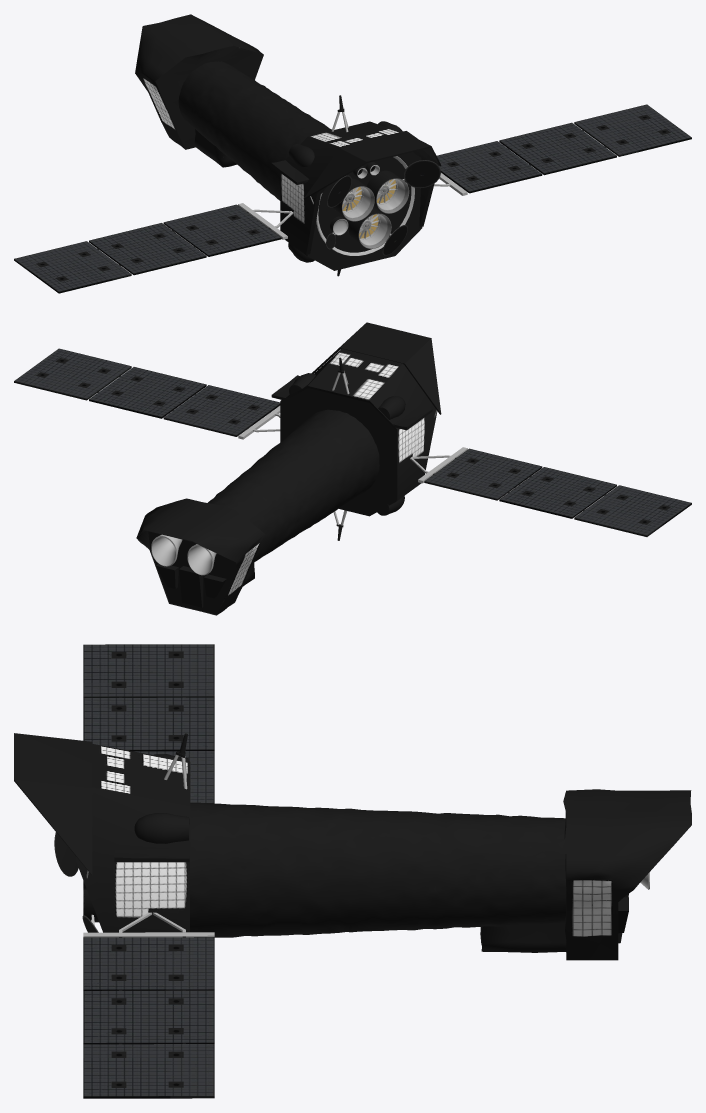
Rendered from xmmnewton-v1.glb.
The picture shows the model from 3 angles, top to bottom: view 1: azimuth 30°, elevation 25°; view 2: azimuth 150°, elevation 25°; view 3: azimuth 270°, elevation 25°; orthographic projection. The views are drawn at different scales.
Visible parts, largest first — view 1: XMM_Newton; view 2: XMM_Newton; view 3: XMM_Newton.
Part boxes in pixels (x1=…): XMM_Newton: x1=14, y1=14, x2=691, y2=293; XMM_Newton: x1=14, y1=322, x2=691, y2=615; XMM_Newton: x1=14, y1=644, x2=691, y2=1098.
Bounding box in the file's own units: 1592 × 436 × 1010.
1 material, 1 textured.
